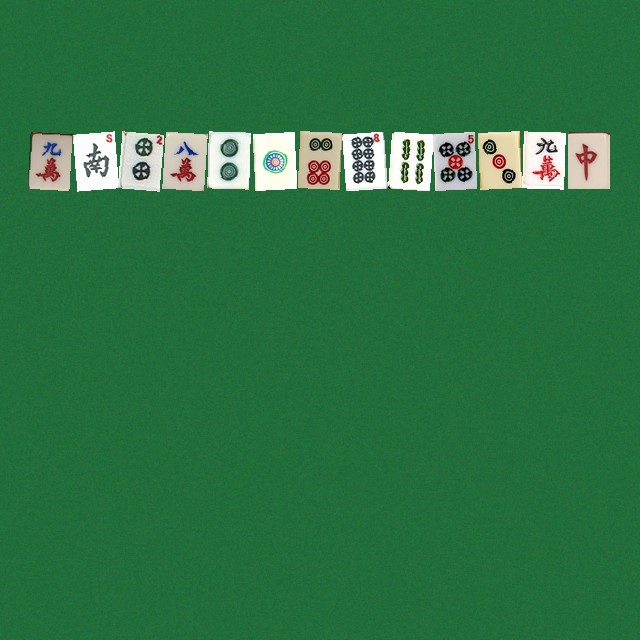tile: (27, 131, 69, 188), (72, 131, 114, 188), (117, 131, 159, 188), (162, 131, 204, 188), (207, 131, 249, 188), (252, 131, 294, 188), (297, 131, 339, 188), (342, 131, 384, 188), (387, 131, 429, 188), (432, 131, 474, 188), (477, 131, 519, 188), (522, 131, 564, 188), (567, 131, 609, 188)
